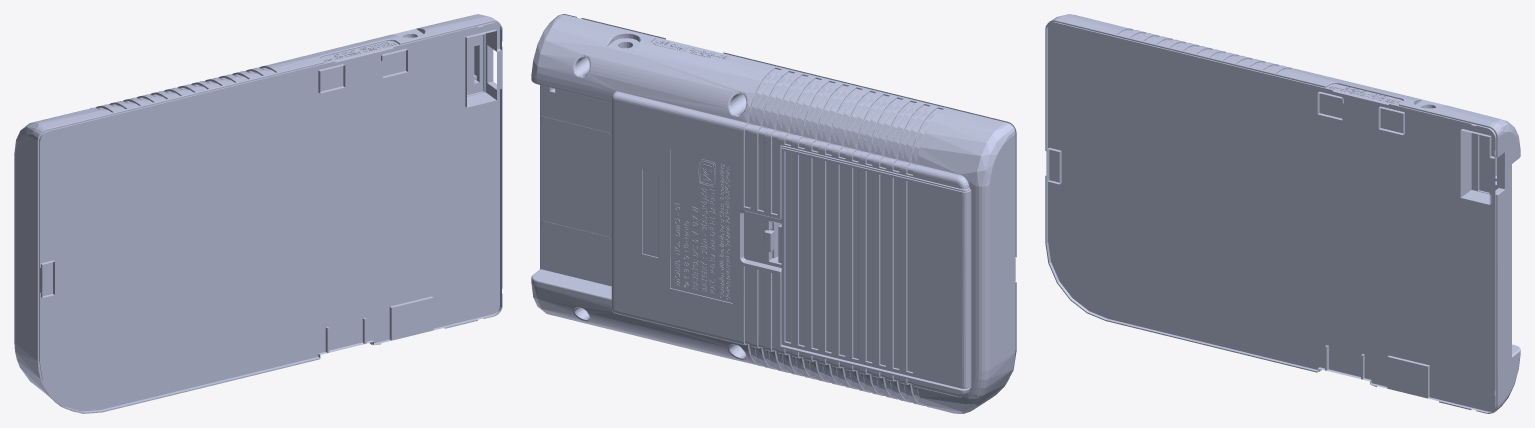
The model's file is gbobj_case_bottom.obj.
3 views of the same model, side by side, from view 1: azimuth 30°, elevation 25°; view 2: azimuth 150°, elevation 25°; view 3: azimuth 330°, elevation 25° (orthographic). The views are drawn at different scales.
Parts seen in each view (by area): view 1: case.001; view 2: case.001, case_batt.001; view 3: case.001.
Boxes of the visible parts, x1,y1,x2,y2 form: case.001: (14, 14, 502, 413); case.001: (531, 14, 1016, 413); case_batt.001: (764, 145, 971, 388); case.001: (1045, 14, 1520, 413).
Size of the model in its own units: 44.4 by 27 by 5.7.
